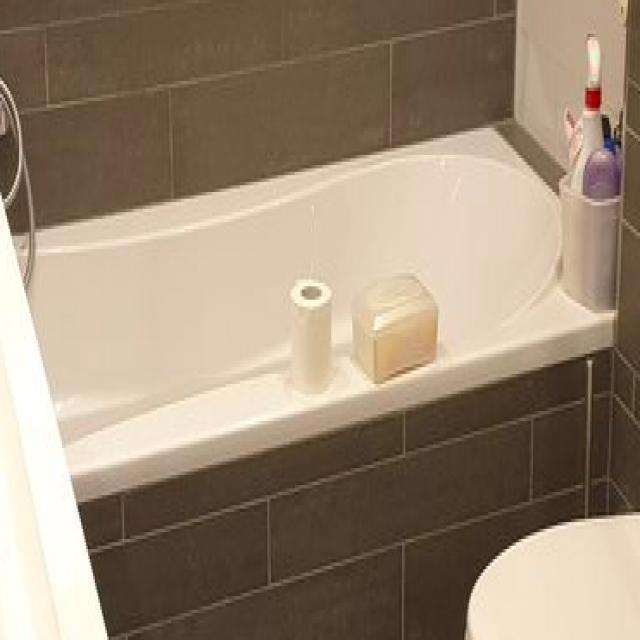bath: (10, 124, 612, 508)
toilet: (466, 512, 640, 640)
wastafel: (0, 198, 109, 640)
